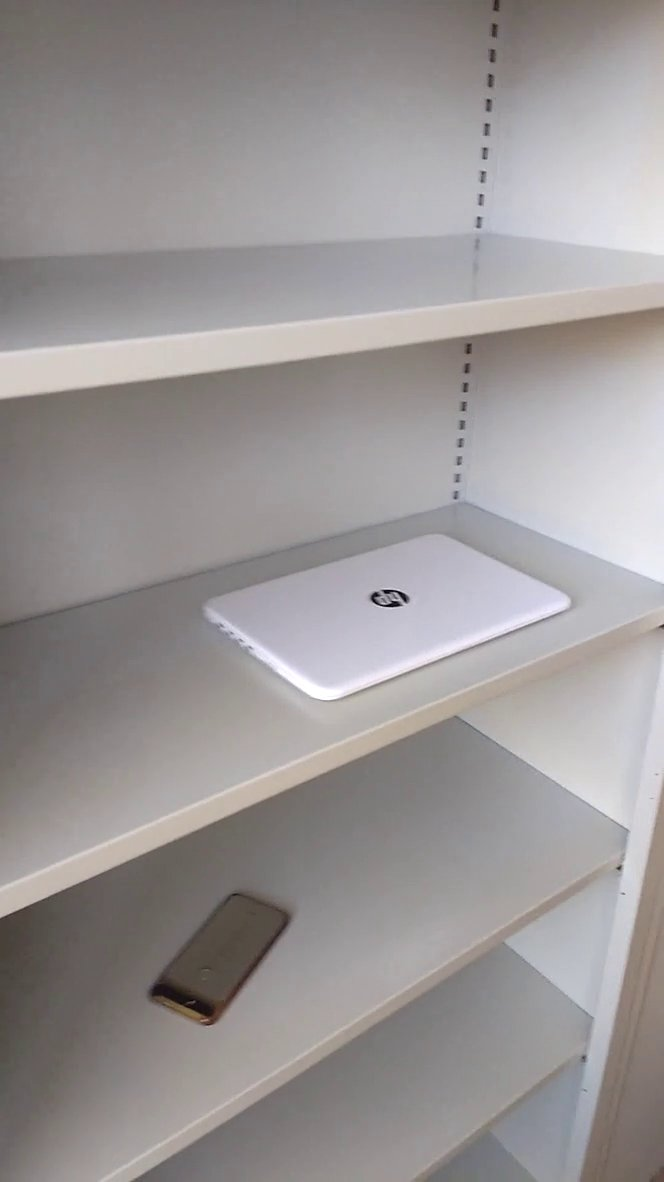laptop: (196, 523, 586, 728)
phone: (142, 880, 301, 1039)
